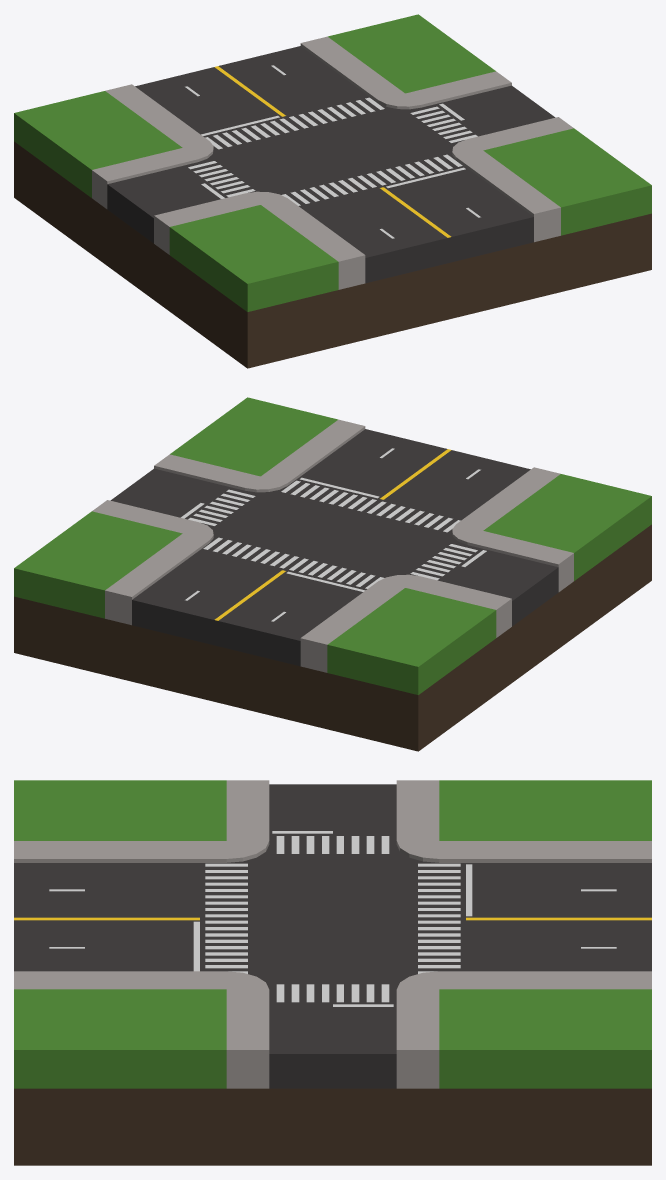
Rendered from tile-road-mainroad-intersection.glb.
The picture shows the model from 3 angles, top to bottom: view 1: azimuth 30°, elevation 25°; view 2: azimuth 150°, elevation 25°; view 3: azimuth 270°, elevation 25°; orthographic projection. The views are drawn at different scales.
Visible parts, largest first — view 1: tile-road-mainroad-intersection; view 2: tile-road-mainroad-intersection; view 3: tile-road-mainroad-intersection.
Boxes of the visible parts, x1,y1,x2,y2 form: tile-road-mainroad-intersection: [14, 14, 651, 368]; tile-road-mainroad-intersection: [14, 397, 651, 751]; tile-road-mainroad-intersection: [14, 780, 651, 1165].
Size of the model in its own units: 30 by 6 by 30.
1 material, 1 textured.
